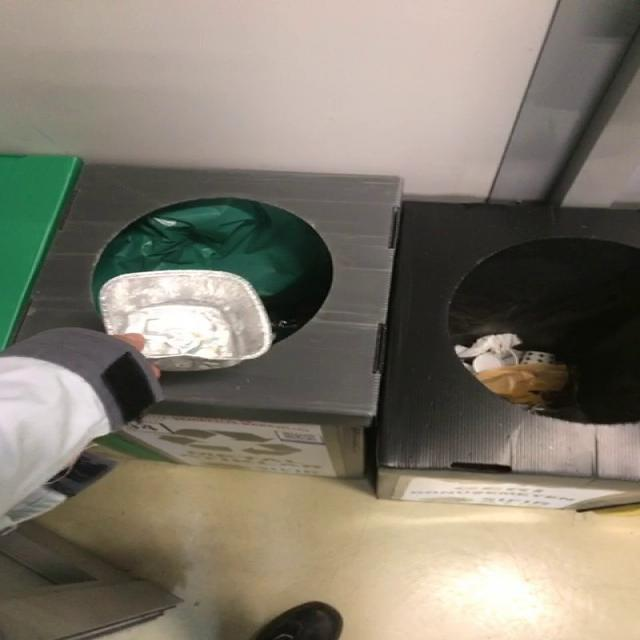bin: (16, 164, 401, 428)
metal: (99, 270, 272, 372)
